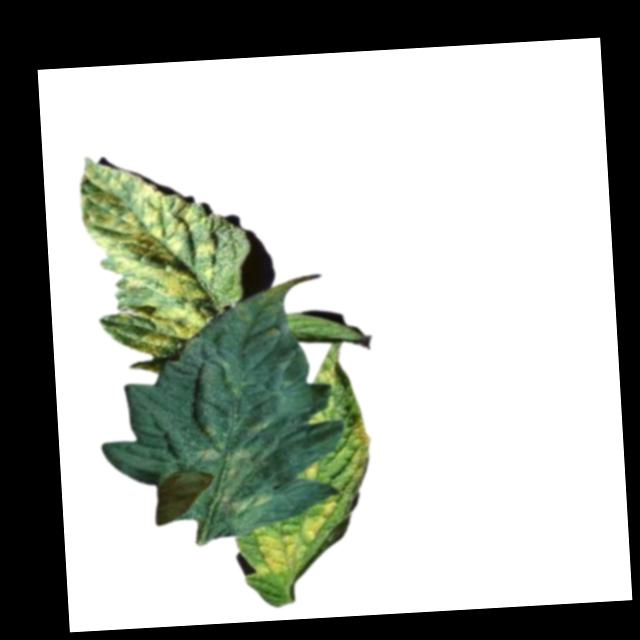Leaf_Mold: (76, 153, 223, 358), (246, 493, 343, 578), (188, 439, 276, 517), (346, 414, 374, 490), (310, 362, 337, 387), (302, 459, 320, 482)
